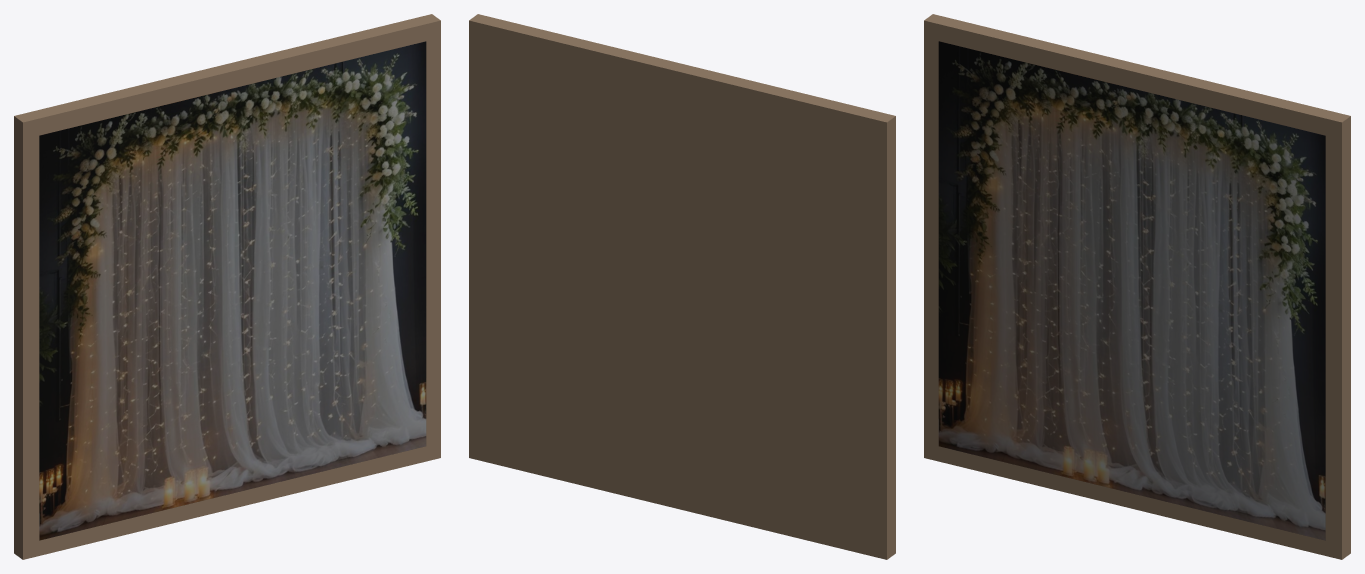
3 renders of one model, left to right at view 1: azimuth 30°, elevation 25°; view 2: azimuth 150°, elevation 25°; view 3: azimuth 330°, elevation 25°, orthographic.
Parts seen in each view (by area): view 1: photo, frame; view 2: frame; view 3: photo, frame.
Boxes of the visible parts, <box> form: photo: <box>39,41,426,540</box>; frame: <box>14,14,440,559</box>; frame: <box>469,14,895,559</box>; photo: <box>938,41,1325,540</box>; frame: <box>924,14,1350,559</box>.
Size of the model in its own units: 0.54 by 0.54 by 0.022.
Materials: 1 (1 with a texture image).
